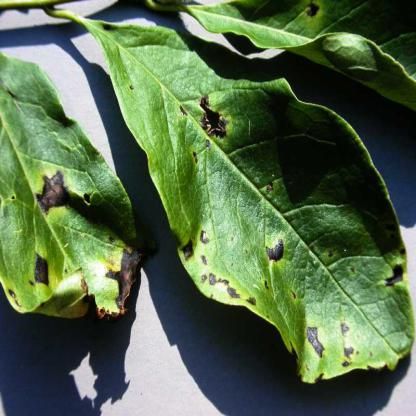tomato leaf bacterial spot: (80, 19, 415, 383)
